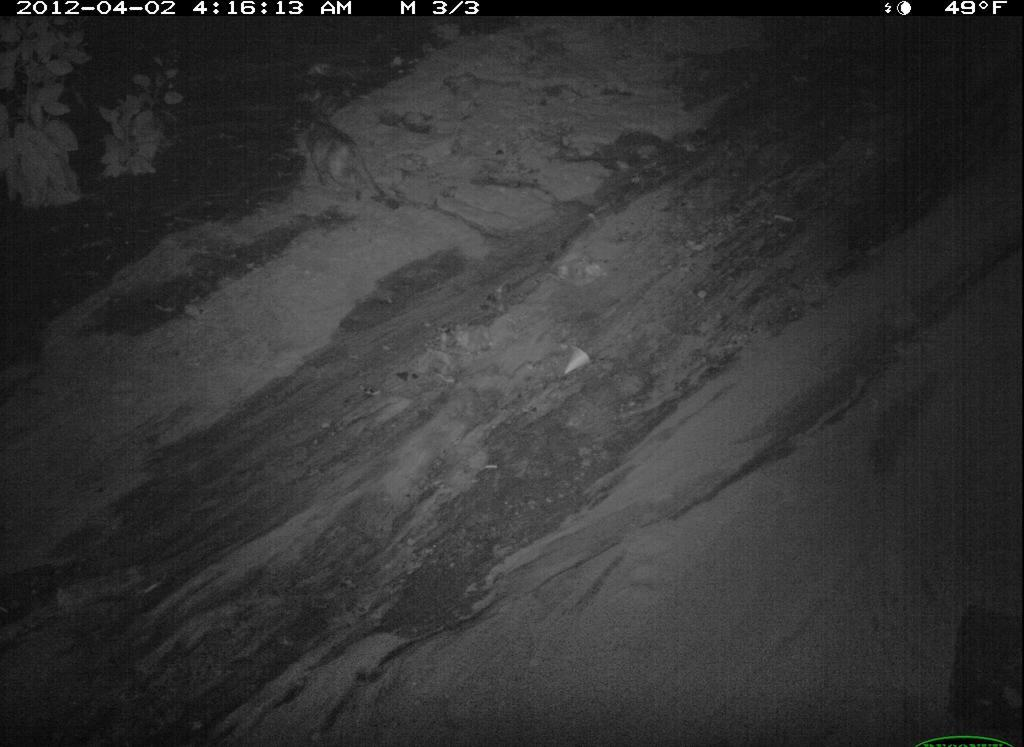cat: (565, 213, 788, 410)
